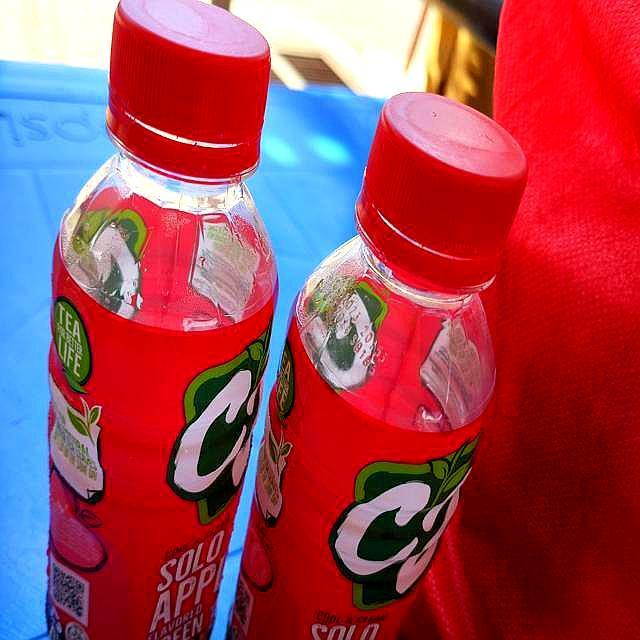Non-biodegradable: (225, 69, 547, 640), (49, 1, 273, 640)
